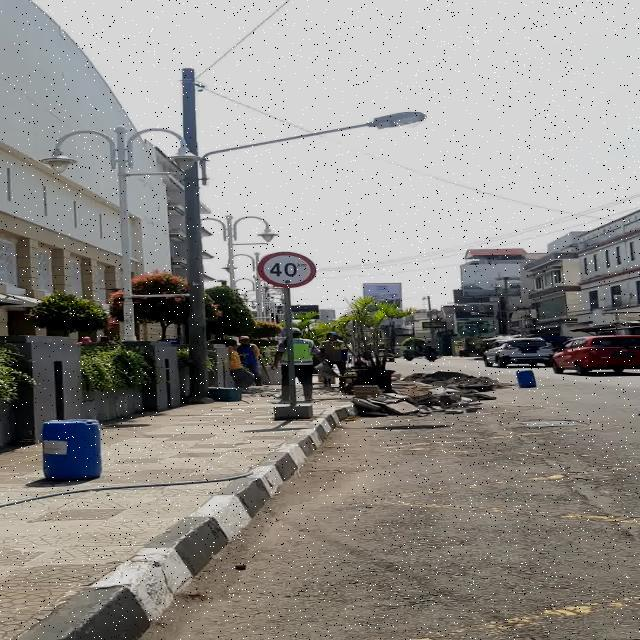Kecepatan Maks. 40 km: (256, 252, 316, 287)
